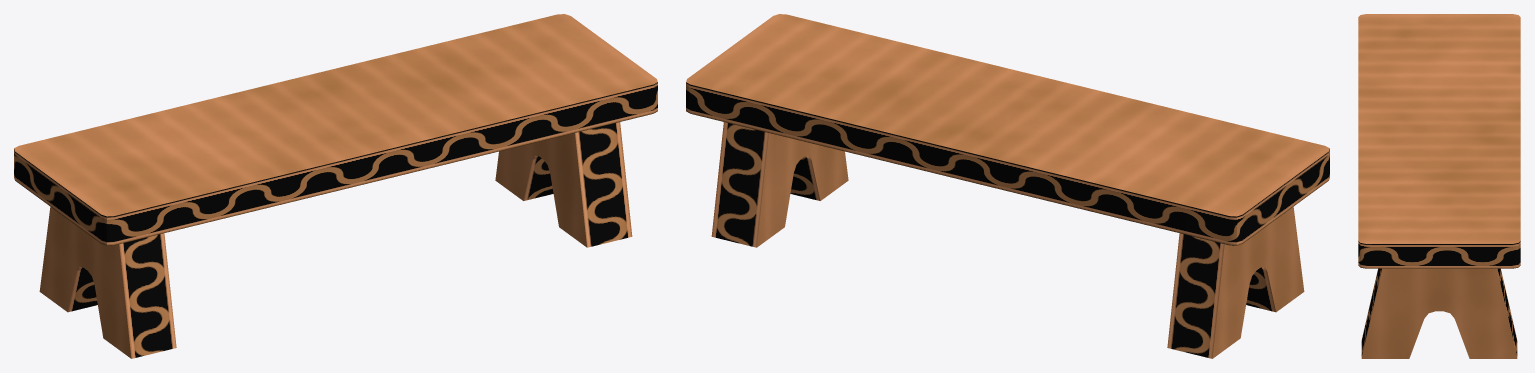
Rendered from M_CardboardAssets_Table.fbx.
The picture shows the model from 3 angles, left to right: view 1: azimuth 30°, elevation 25°; view 2: azimuth 150°, elevation 25°; view 3: azimuth 270°, elevation 25°; orthographic projection. The views are drawn at different scales.
Parts seen in each view (by area): view 1: M_CardboardAssets_Table; view 2: M_CardboardAssets_Table; view 3: M_CardboardAssets_Table.
Boxes of the visible parts, left/top/right/bottom form: M_CardboardAssets_Table: left=14, top=14, right=657, bottom=358; M_CardboardAssets_Table: left=686, top=14, right=1329, bottom=358; M_CardboardAssets_Table: left=1358, top=14, right=1520, bottom=358.
Bounding box in the file's own units: 4.06 × 1.04 × 1.21.
